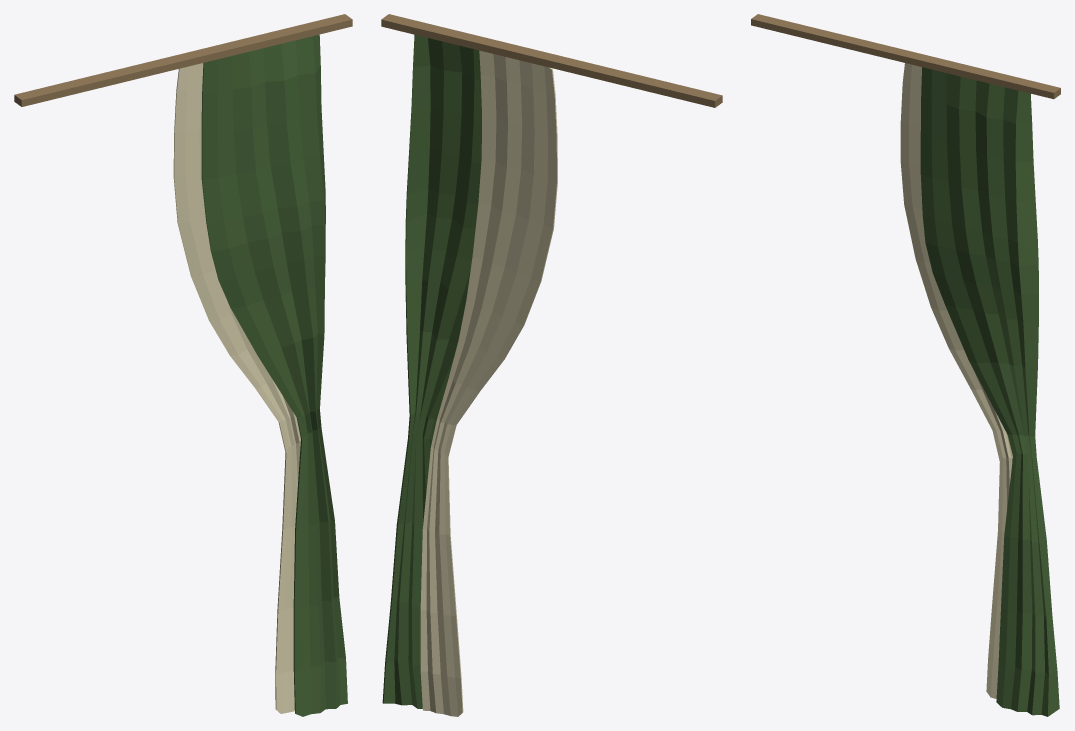
Rendered from Curtain_2_R.fbx.
3 views of the same model, side by side, from view 1: azimuth 30°, elevation 25°; view 2: azimuth 150°, elevation 25°; view 3: azimuth 330°, elevation 25° (orthographic). The views are drawn at different scales.
Visible parts, largest first — view 1: Curtain_2_R; view 2: Curtain_2_R; view 3: Curtain_2_R.
Part boxes in pixels (x1,y1,x2,y2): Curtain_2_R: (14,14,352,716); Curtain_2_R: (381,14,722,716); Curtain_2_R: (751,14,1060,716).
Size of the model in its own units: 100 by 197 by 7.
